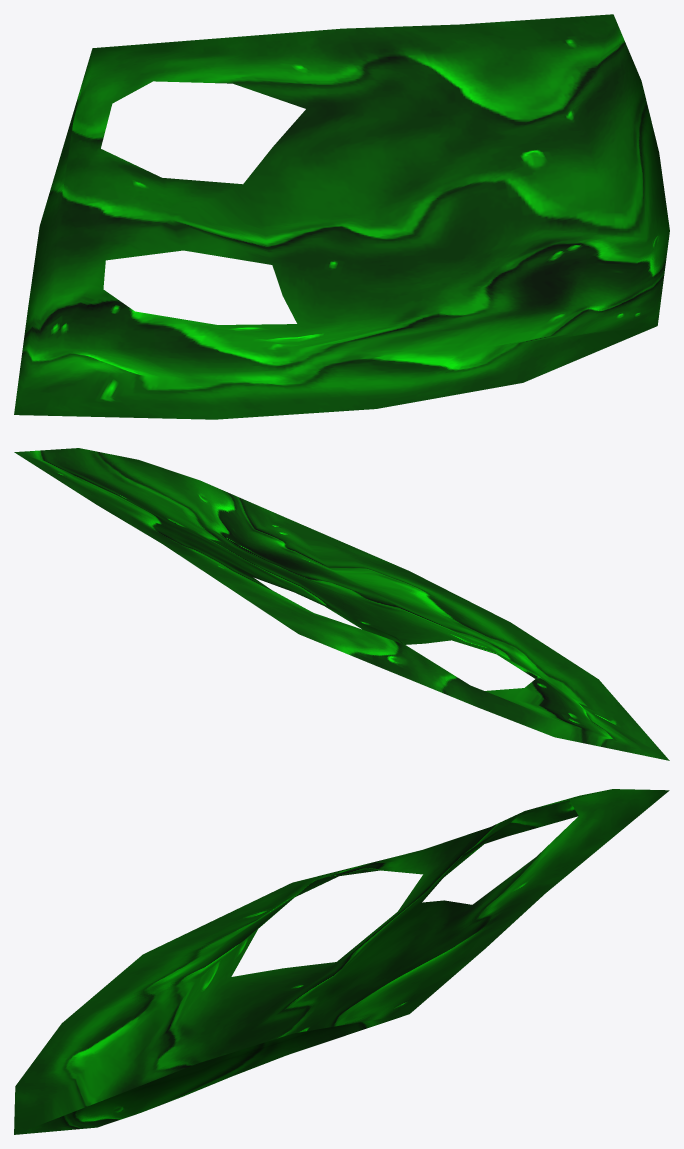
The model's file is TROLLHOLE02_SLIMESLIDE01.fbx.
The picture shows the model from 3 angles, top to bottom: view 1: azimuth 30°, elevation 25°; view 2: azimuth 150°, elevation 25°; view 3: azimuth 270°, elevation 25°; orthographic projection. The views are drawn at different scales.
Visible parts, largest first — view 1: TROLLHOLE02_SLIMESLIDE01; view 2: TROLLHOLE02_SLIMESLIDE01; view 3: TROLLHOLE02_SLIMESLIDE01.
Boxes of the visible parts, x1,y1,x2,y2 form: TROLLHOLE02_SLIMESLIDE01: (14, 14, 669, 419); TROLLHOLE02_SLIMESLIDE01: (14, 448, 669, 760); TROLLHOLE02_SLIMESLIDE01: (14, 789, 669, 1134).
Bounding box in the file's own units: 155143 × 47156 × 113900.
Materials: 1 (1 with a texture image).
